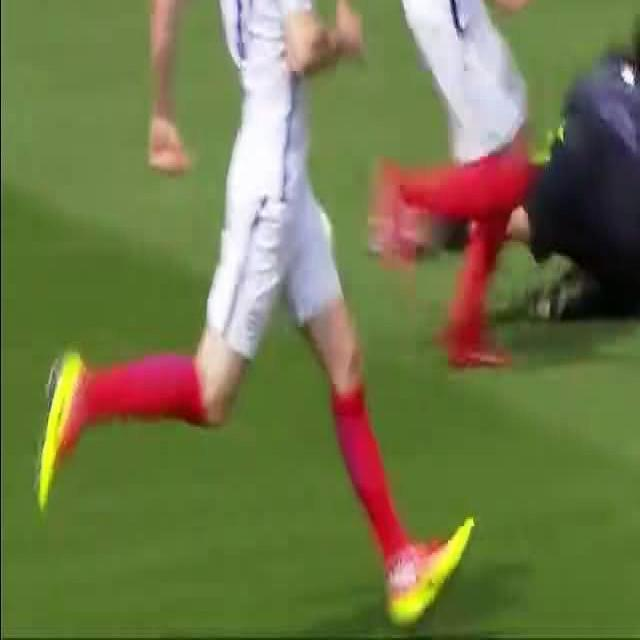player-white: (37, 0, 474, 631), (371, 18, 640, 316), (367, 0, 540, 366)
